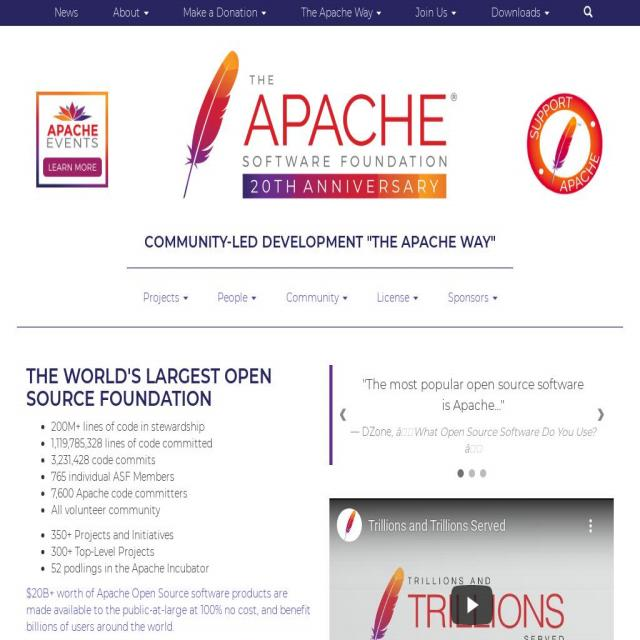download: (492, 0, 556, 25)
navigation-links: (129, 272, 519, 325), (42, 7, 604, 35)
search: (576, 0, 612, 32)
sign-up-option: (406, 0, 460, 25)
video: (324, 482, 620, 636)
